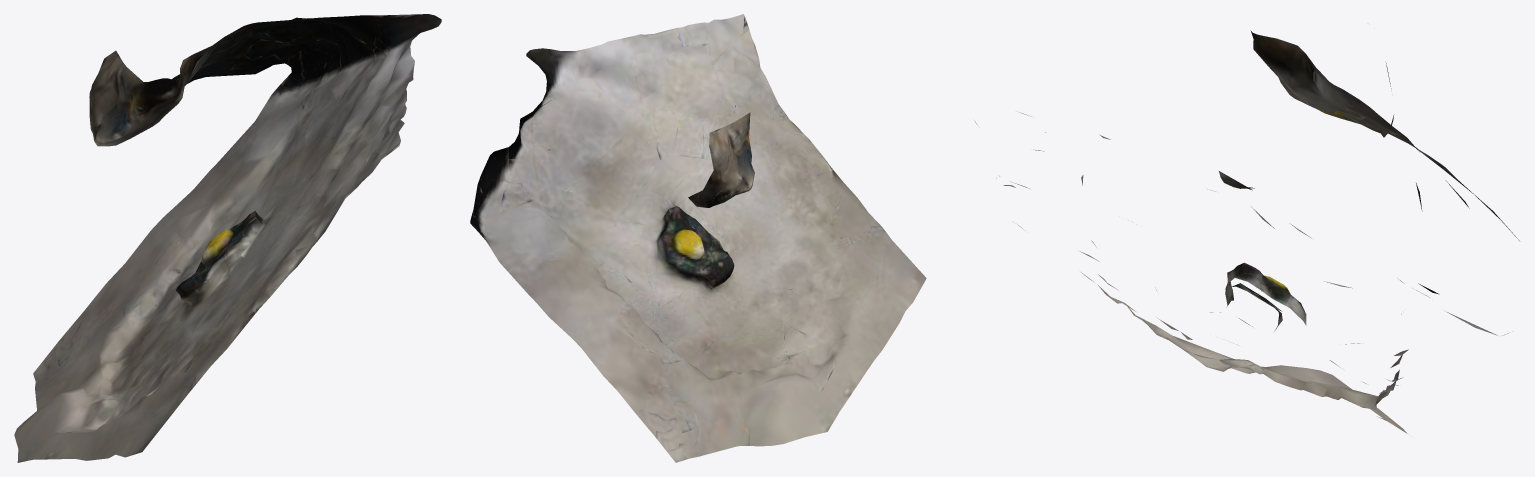
The model's file is hall.glb.
3 views of the same model, side by side, from view 1: azimuth 30°, elevation 25°; view 2: azimuth 150°, elevation 25°; view 3: azimuth 270°, elevation 25° (orthographic). The views are drawn at different scales.
Bounding box in the file's own units: 1.49 × 1.3 × 1.47.
1 material, 1 textured.
